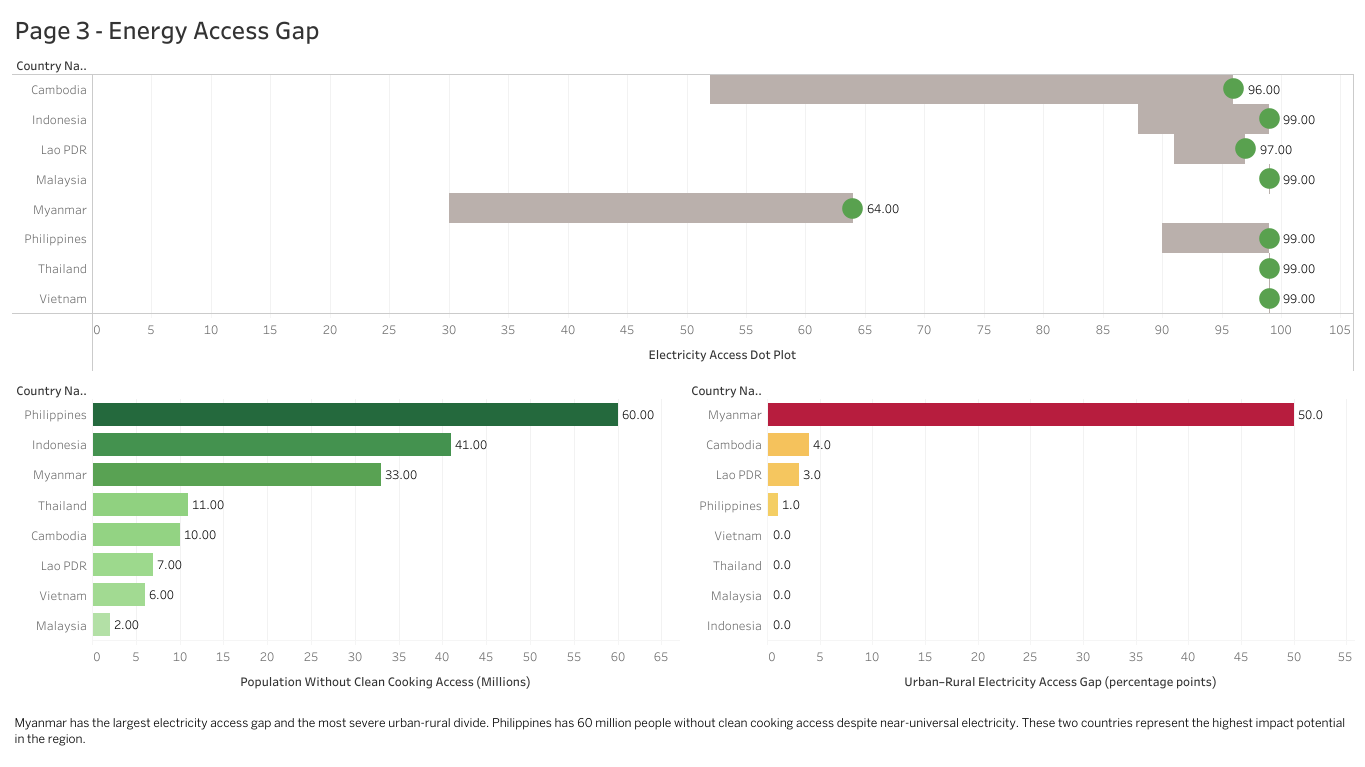

The page's visual inventory and layout, read from the dashboard file:
{"tool":"tableau","page":{"name":"Page 3 - Energy Access Gap","canvas":[1566,868],"ordinal":2},"visuals":[{"type":"title","box":[8,8,1550,52]},{"type":"worksheet","title":"Electricity Access Dot Plot","mark":"Circle","rows":["country_name"],"cols":["elec_access_2015_pct_iea","elec_access_2022_pct_iea"],"box":[8,60,1550,366.6]},{"type":"worksheet","title":"Cooking Access","mark":"Bar","rows":["country_name"],"cols":["pop_without_cooking_2022m_iea"],"box":[8,426.6,775,366.6]},{"type":"worksheet","title":"Urban vs Rural Electricity Access Gap","mark":"Bar","rows":["country_name"],"cols":["Calculation_0798296080138241"],"box":[783,426.6,775,366.6]},{"type":"text","box":[8,793.2,1550,66.8]}]}

Visuals, with their boxes in screenshot pixels (x1, y1, x2, y2), scaled from the page's 1566x868 canvas onto the 1365x767 screenshot:
title: [7, 7, 1358, 53]
"Electricity Access Dot Plot" worksheet (Circle marks): [7, 53, 1358, 377]
"Cooking Access" worksheet (Bar marks): [7, 377, 682, 701]
"Urban vs Rural Electricity Access Gap" worksheet (Bar marks): [682, 377, 1358, 701]
text: [7, 701, 1358, 760]
